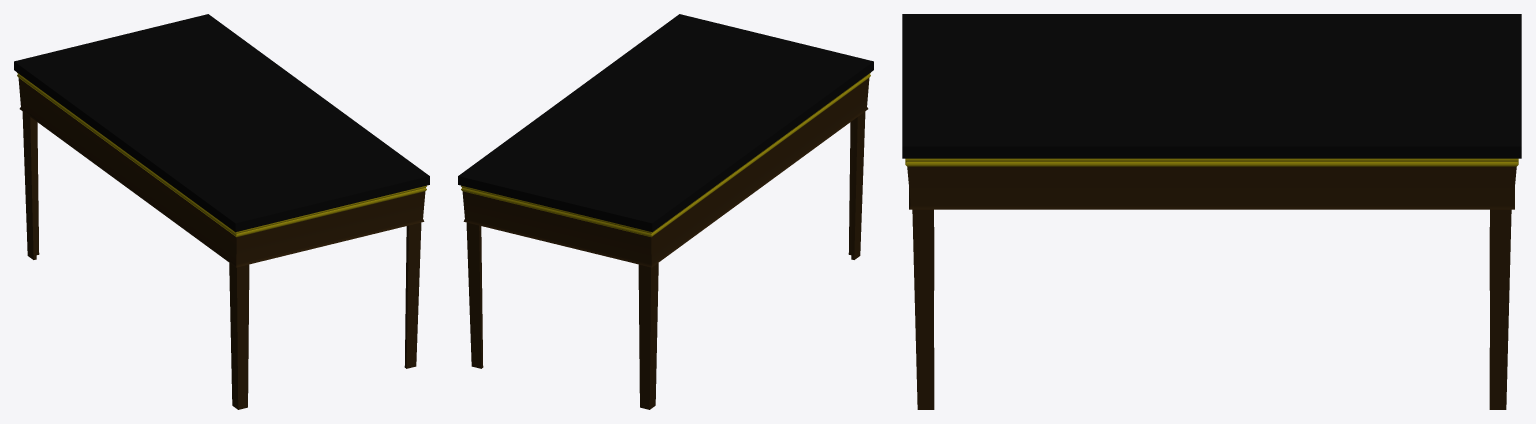
The model's file is Mesa_1.fbx.
The picture shows the model from 3 angles, left to right: view 1: azimuth 30°, elevation 25°; view 2: azimuth 150°, elevation 25°; view 3: azimuth 270°, elevation 25°; orthographic projection. The views are drawn at different scales.
Parts seen in each view (by area): view 1: Mesa_01; view 2: Mesa_01; view 3: Mesa_01.
Part boxes in pixels (x1,y1,x2,y2): Mesa_01: [14, 14, 429, 409]; Mesa_01: [458, 14, 873, 409]; Mesa_01: [902, 14, 1521, 409].
Size of the model in its own units: 102 by 96.84 by 202.
